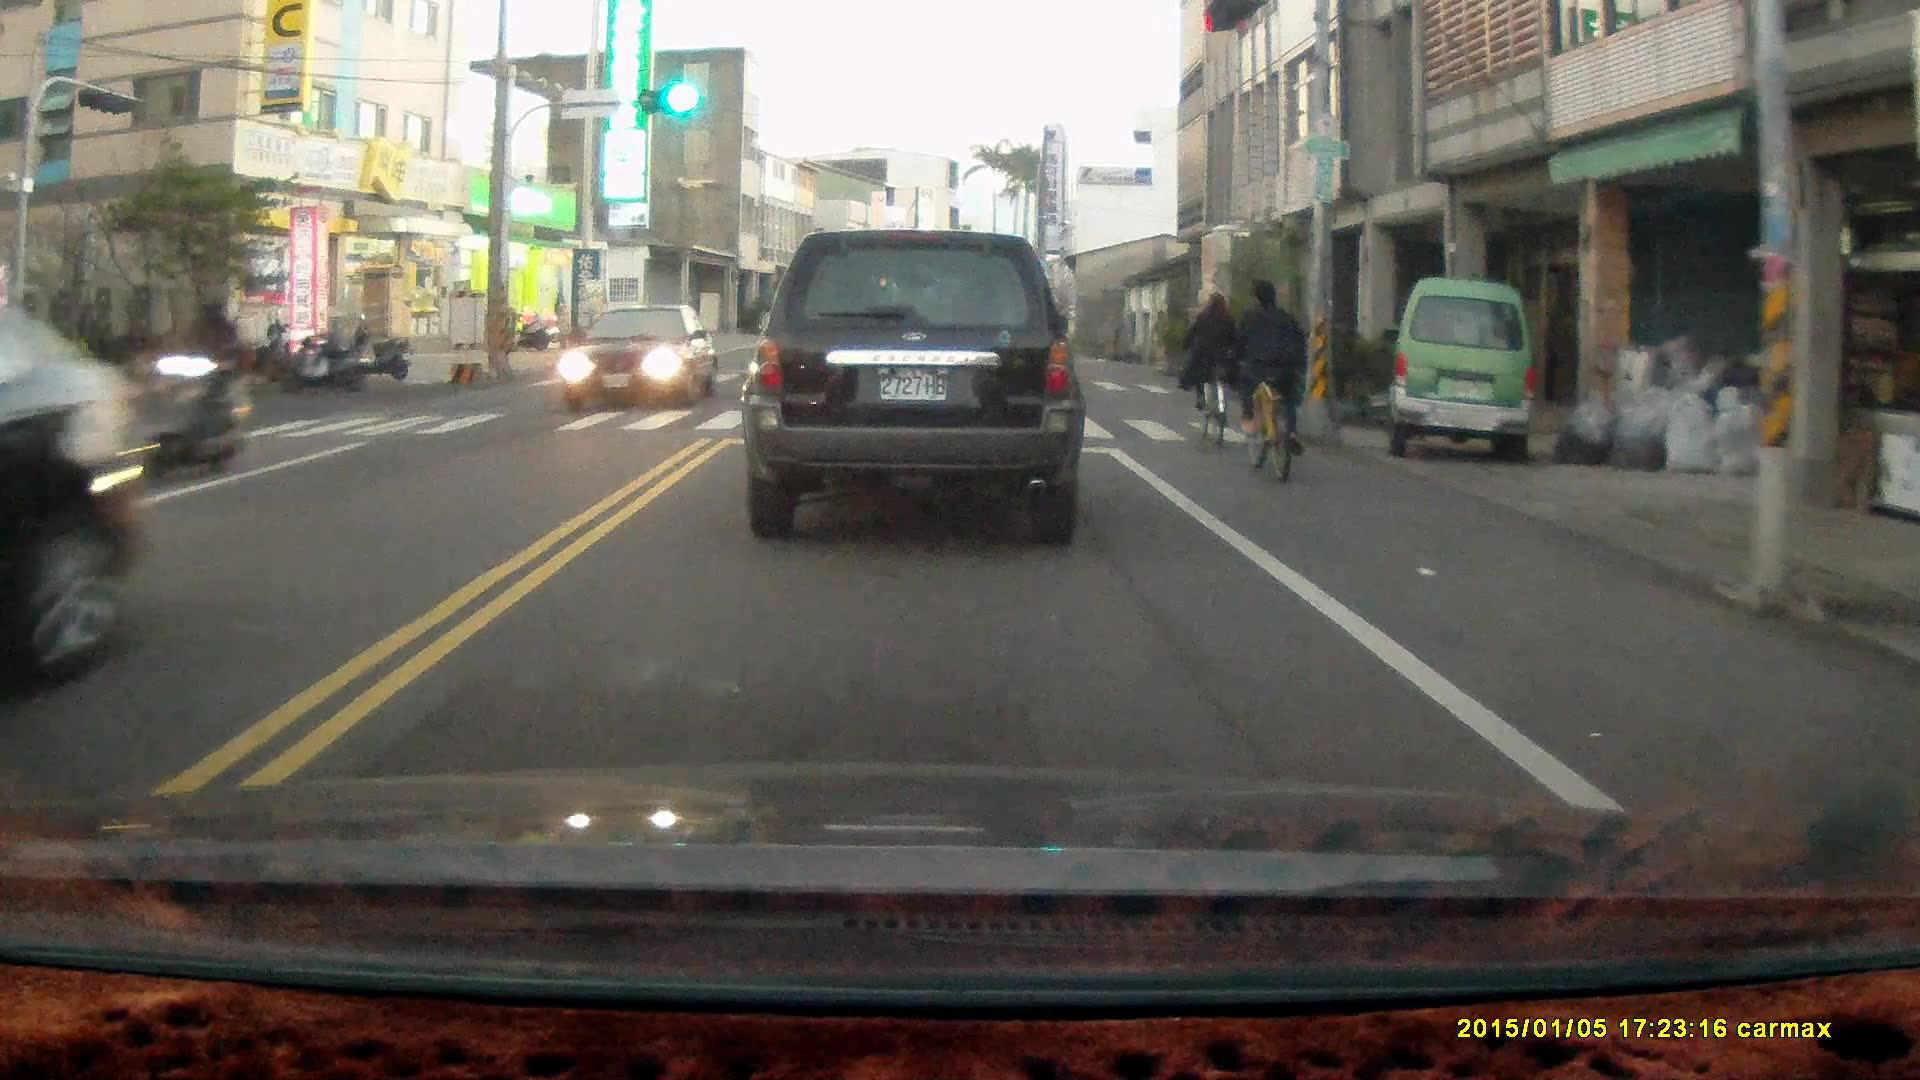rider: (142, 290, 257, 486), (1224, 275, 1307, 482), (1177, 290, 1237, 446), (278, 308, 366, 394)
vehicle: (746, 225, 1085, 542), (1, 277, 145, 703), (1387, 278, 1538, 471), (559, 302, 723, 414)
